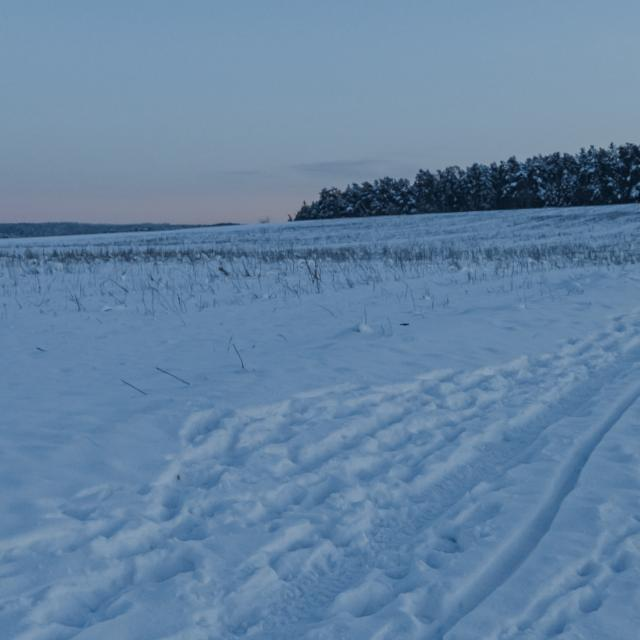Airaplan: (400, 322, 410, 326)
